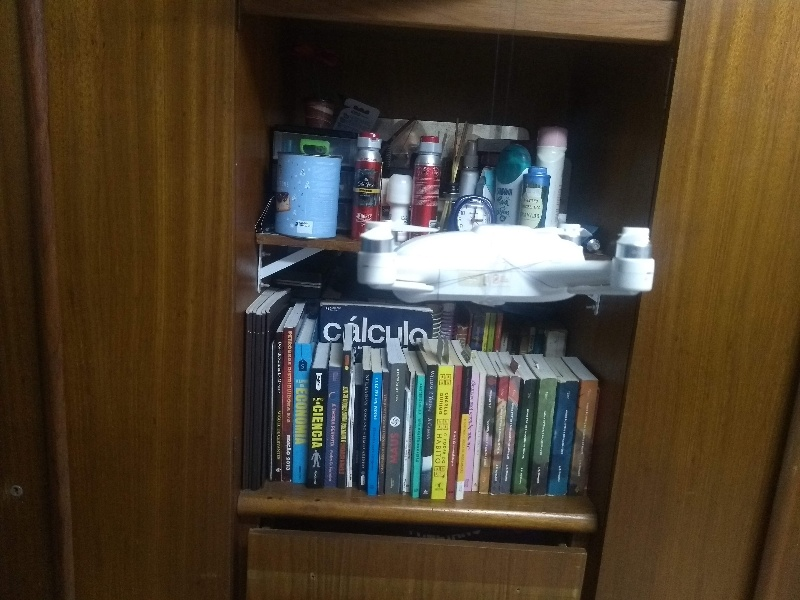drone: (349, 206, 664, 314)
